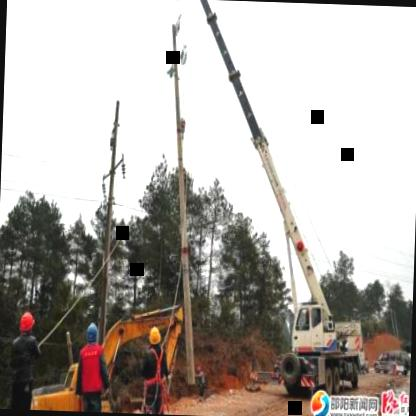helmet: (18, 310, 36, 337), (148, 322, 164, 348), (84, 318, 100, 343)
